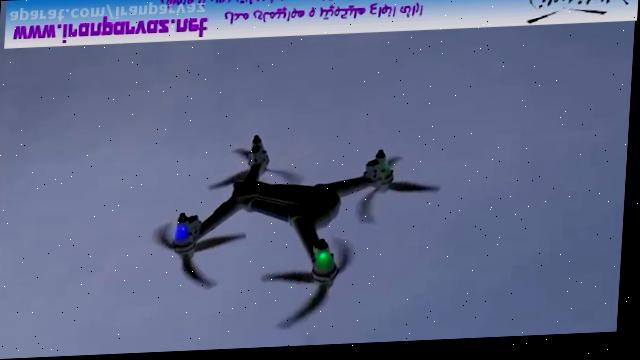drone: (144, 126, 449, 340)
